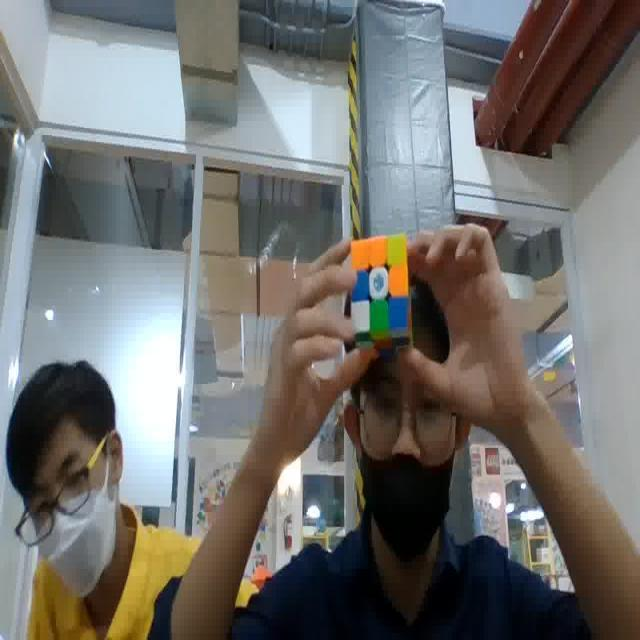Rub: (346, 231, 414, 359)
